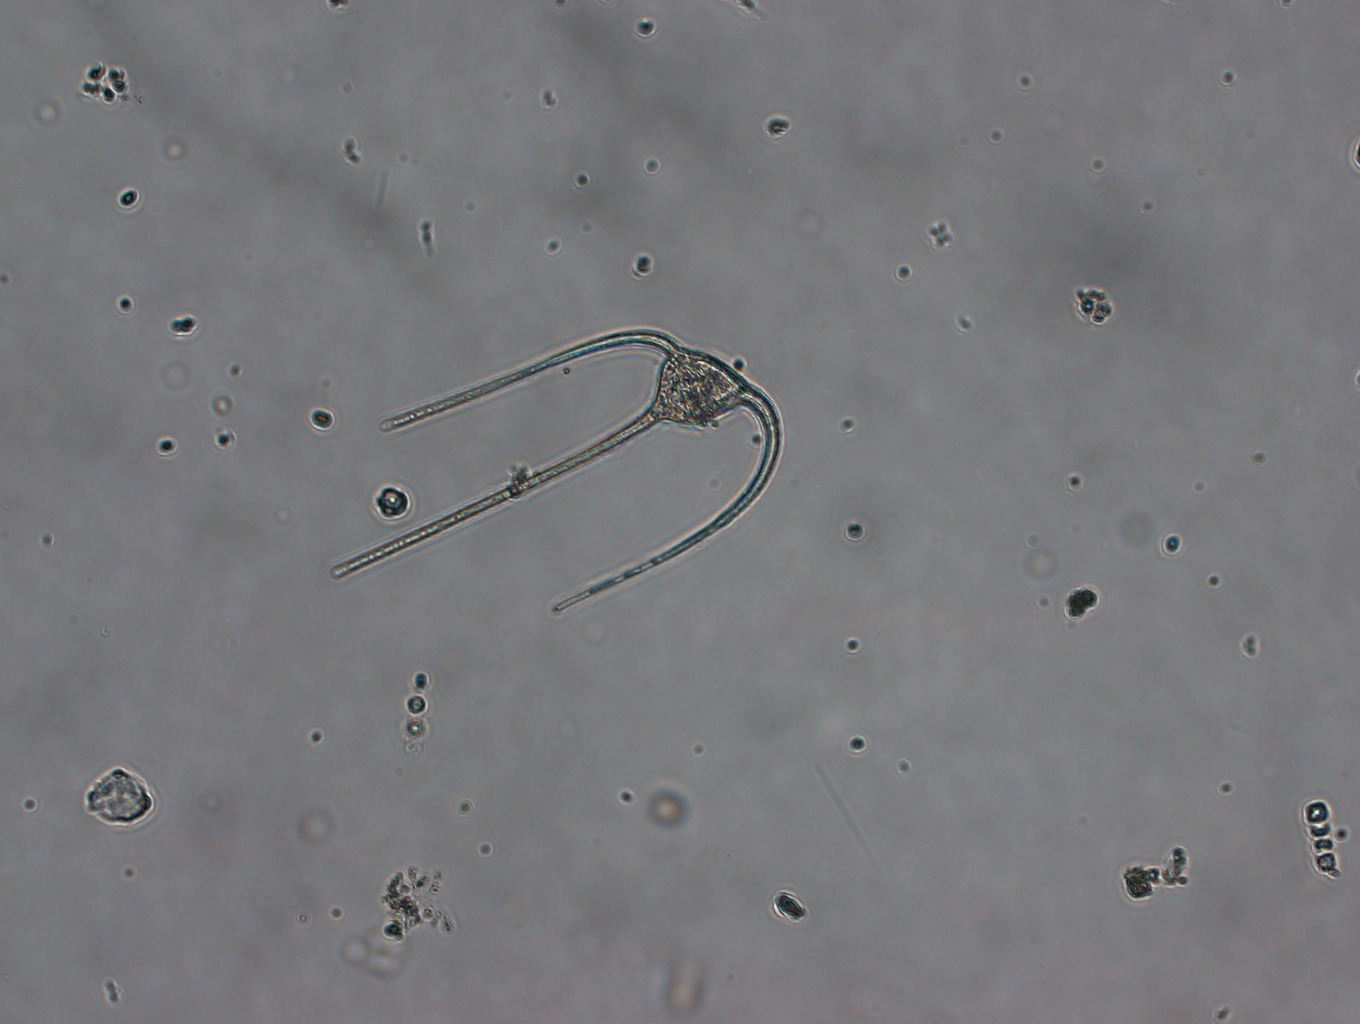ceratium trichoceros: (320, 315, 790, 616)
